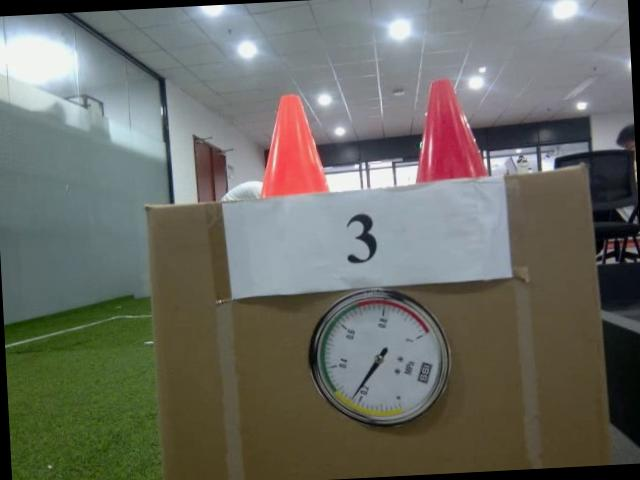3: (341, 211, 381, 267)
Dashboard: (304, 286, 456, 432)
orange_barrel: (251, 91, 333, 202)
red_barrel: (408, 76, 491, 184)
ssi: (415, 357, 434, 385)
